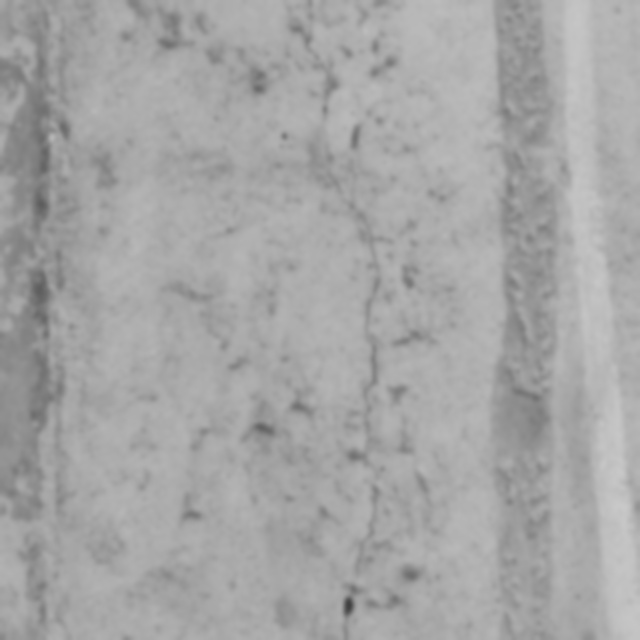SurfaceCrack: (258, 0, 420, 640)
